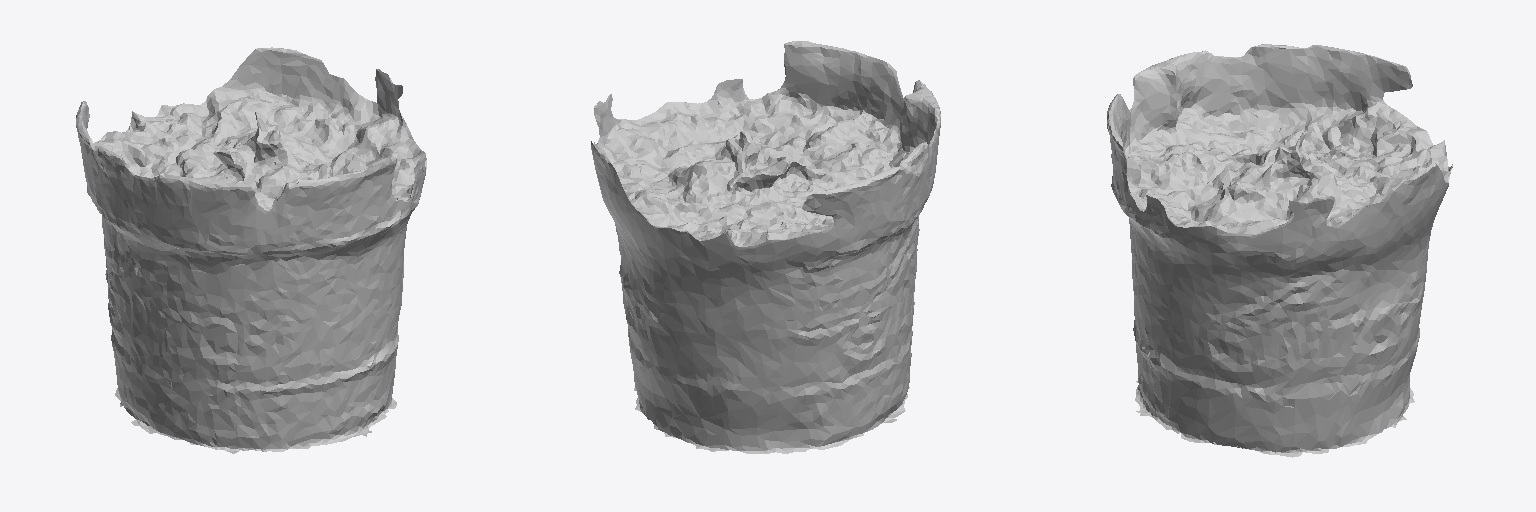
File: blackpot.obj
The picture shows the model from 3 angles: view 1: azimuth 30°, elevation 25°; view 2: azimuth 150°, elevation 25°; view 3: azimuth 270°, elevation 25°; orthographic projection.
Visible parts, largest first — view 1: textured; view 2: textured; view 3: textured.
Boxes of the visible parts, <box> form: textured: <box>76,47,426,453</box>; textured: <box>591,41,940,453</box>; textured: <box>1107,44,1452,457</box>.
Size of the model in its own units: 0.5167 by 0.4693 by 0.5108.